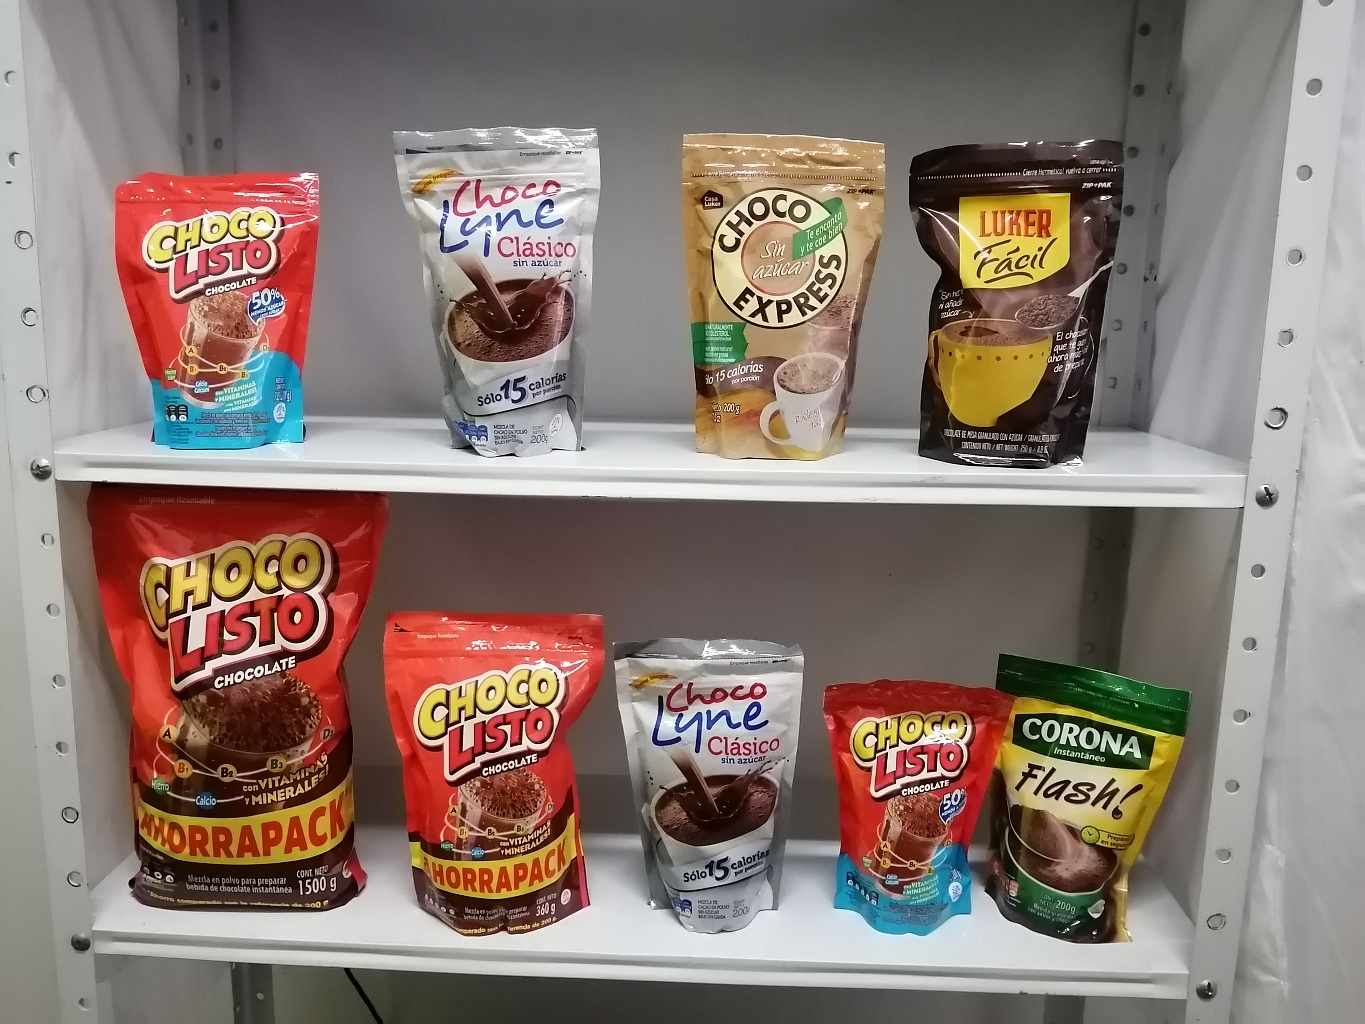COL0170103DYP1,500: (66, 475, 389, 918)
COL0170103DYP36000: (380, 597, 612, 949)
COL0170104DYP20000: (815, 665, 1009, 951)
